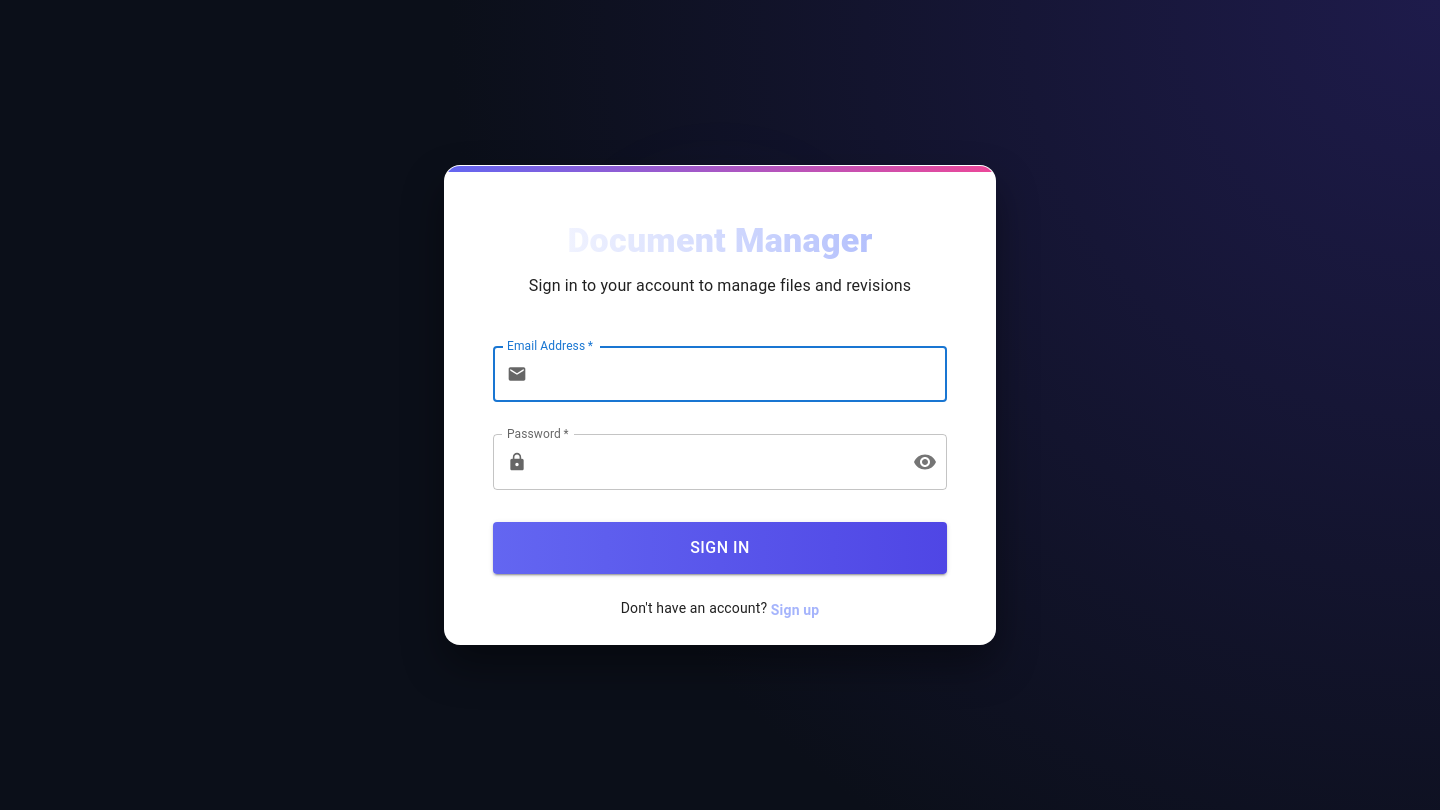
Test: LoginPage › displays error message on login failure
Type "bad@example.com" into the field labelled "Email Address *" at (741, 374), box [535, 346, 947, 402]
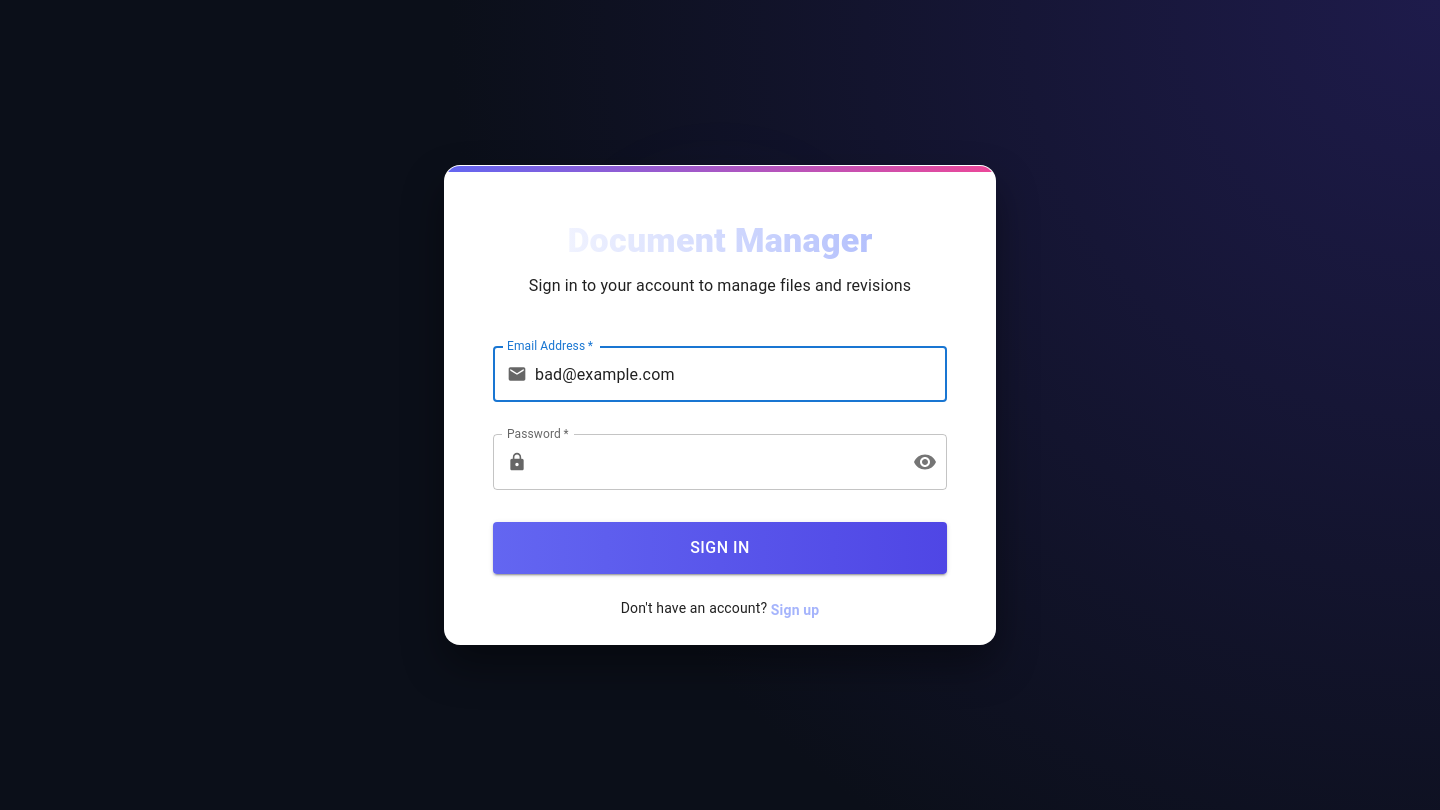
Type "wrong" into the password field labelled "Password *" at (716, 462), box [535, 434, 897, 490]
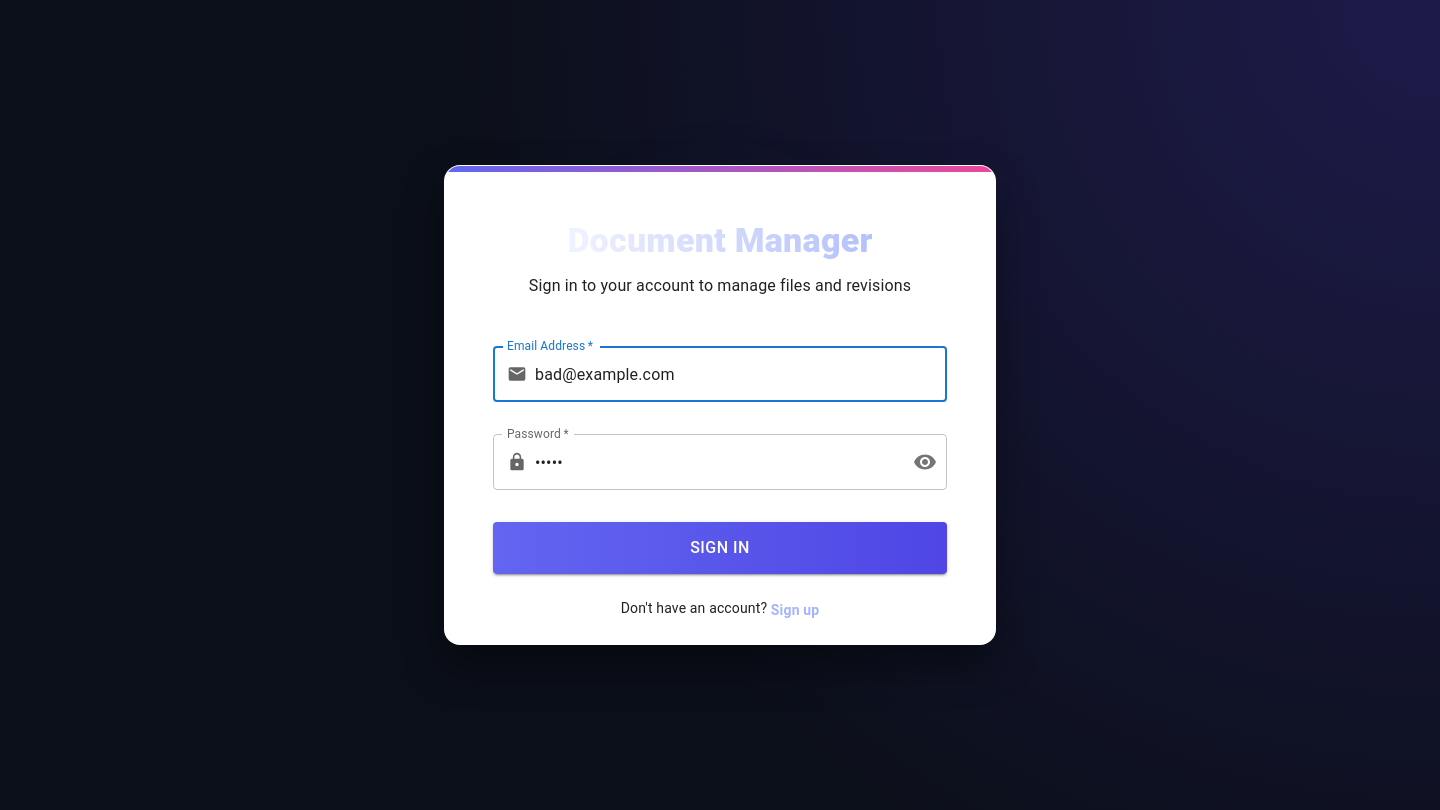
Click the button "Sign In" at (720, 548), box [493, 522, 947, 574]
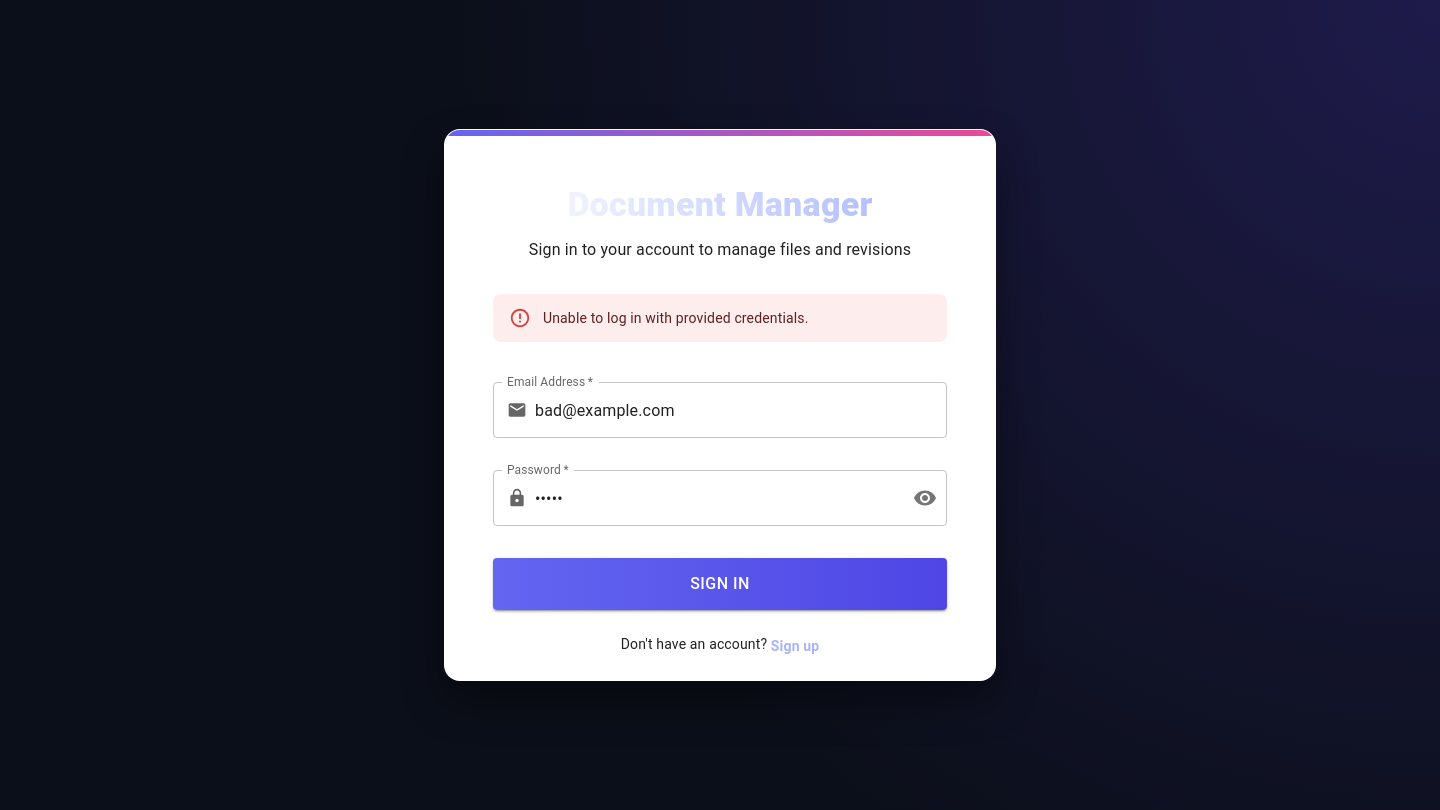
Now the text "Unable to log in with provided credentials." is shown, box [543, 310, 808, 326]
